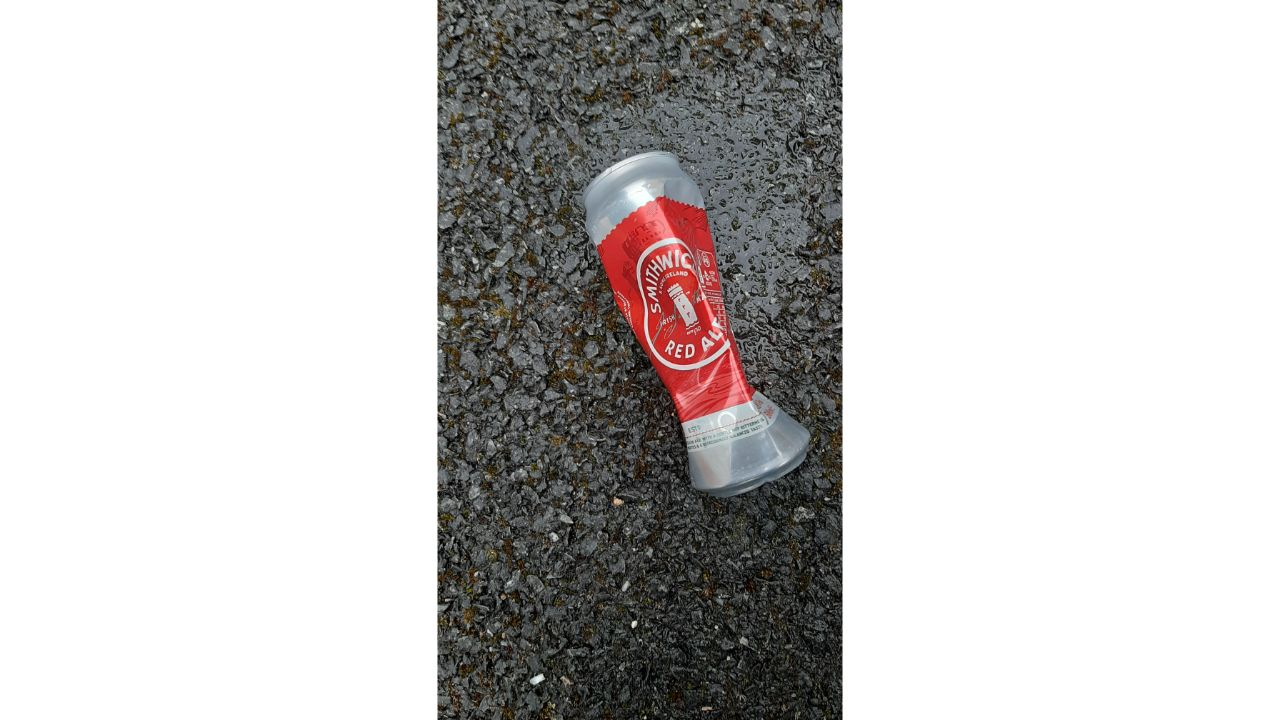Can: (583, 149, 813, 495)
